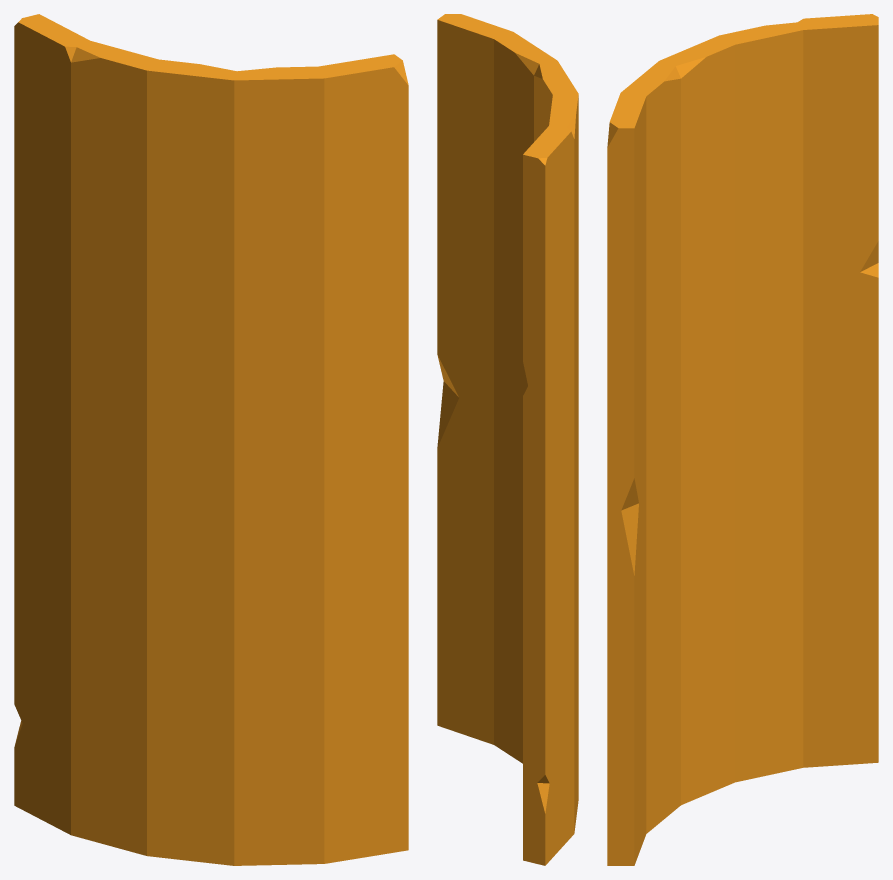
The model's file is SM_Buildings_WallCurved_1x1_01P.fbx.
The picture shows the model from 3 angles, left to right: view 1: azimuth 30°, elevation 25°; view 2: azimuth 150°, elevation 25°; view 3: azimuth 270°, elevation 25°; orthographic projection. The views are drawn at different scales.
Parts seen in each view (by area): view 1: SM_Buildings_WallCurved_1x1_01P; view 2: SM_Buildings_WallCurved_1x1_01P; view 3: SM_Buildings_WallCurved_1x1_01P.
Boxes of the visible parts, bbox=[...] form: SM_Buildings_WallCurved_1x1_01P: bbox=[14, 14, 408, 865]; SM_Buildings_WallCurved_1x1_01P: bbox=[437, 14, 578, 865]; SM_Buildings_WallCurved_1x1_01P: bbox=[607, 14, 878, 865].
Size of the model in its own units: 100 by 300 by 100.
